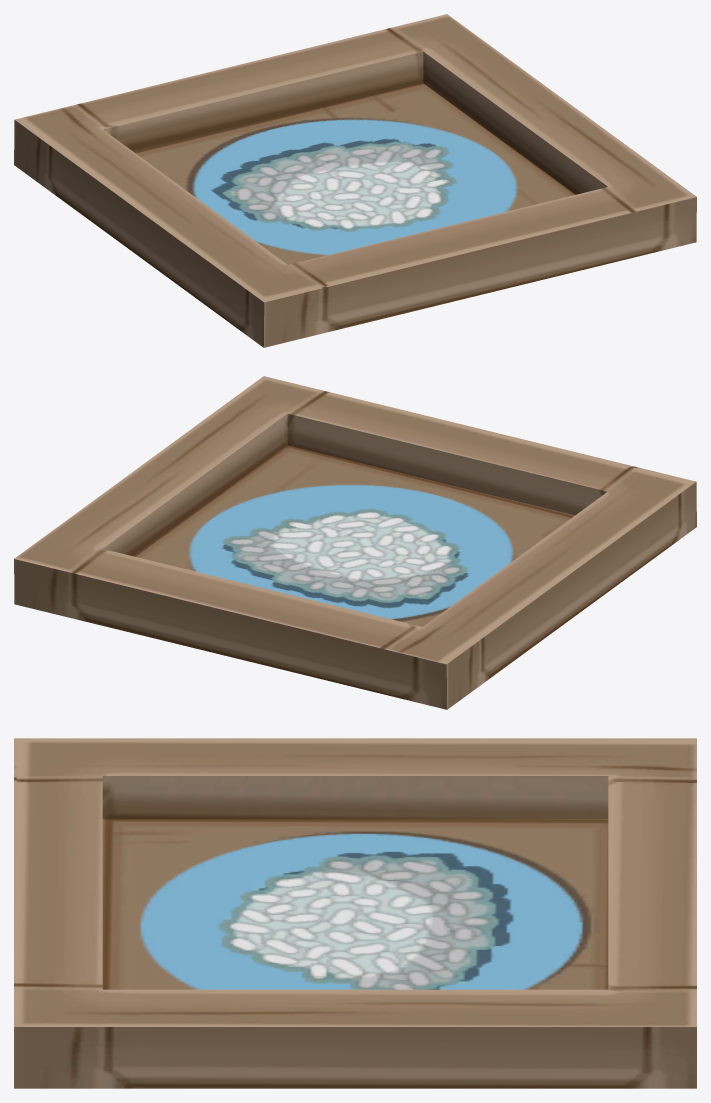
File: CrateLid_Rice.obj
3 views of the same model, one above another, from view 1: azimuth 30°, elevation 25°; view 2: azimuth 150°, elevation 25°; view 3: azimuth 270°, elevation 25° (orthographic). The views are drawn at different scales.
Visible parts, largest first — view 1: CrateLid_mesh-sharedassets2.assets-136; view 2: CrateLid_mesh-sharedassets2.assets-136; view 3: CrateLid_mesh-sharedassets2.assets-136.
Boxes of the visible parts, box(x1,y1,x2,y2) form: CrateLid_mesh-sharedassets2.assets-136: box(14, 14, 696, 347); CrateLid_mesh-sharedassets2.assets-136: box(14, 376, 696, 709); CrateLid_mesh-sharedassets2.assets-136: box(14, 738, 696, 1088).
Bounding box in the file's own units: 1 × 0.1 × 1.
